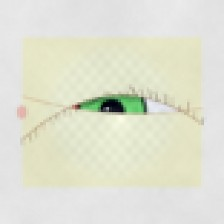hemorrhage_spot: (23, 66, 125, 147)
